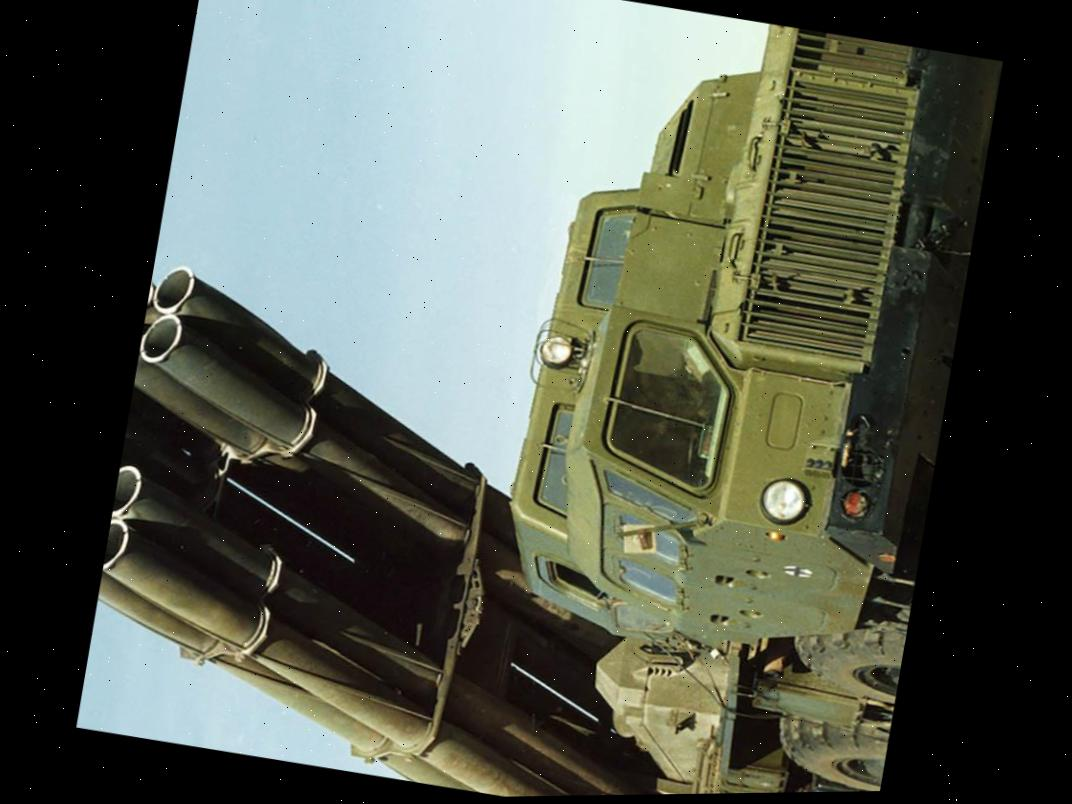rszo: (70, 0, 1007, 803)
